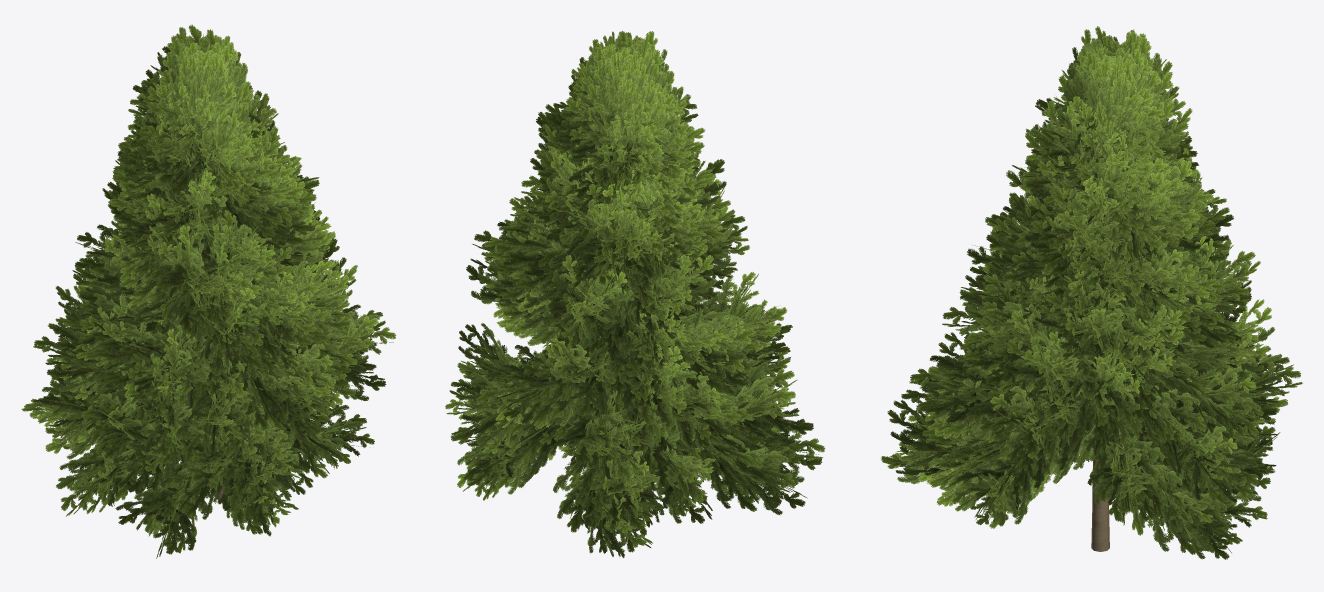
The model's file is pineLarge.glb.
The picture shows the model from 3 angles, left to right: view 1: azimuth 30°, elevation 25°; view 2: azimuth 150°, elevation 25°; view 3: azimuth 270°, elevation 25°; orthographic projection. The views are drawn at different scales.
Visible parts, largest first — view 1: Tree; view 2: Tree; view 3: Tree.
Boxes of the visible parts, left/top/right/bottom form: Tree: left=21, top=24, right=396, bottom=558; Tree: left=445, top=30, right=825, bottom=557; Tree: left=881, top=26, right=1302, bottom=559.
Size of the model in its own units: 58.69 by 80.18 by 60.54.
Materials: 2 (2 with a texture image).
